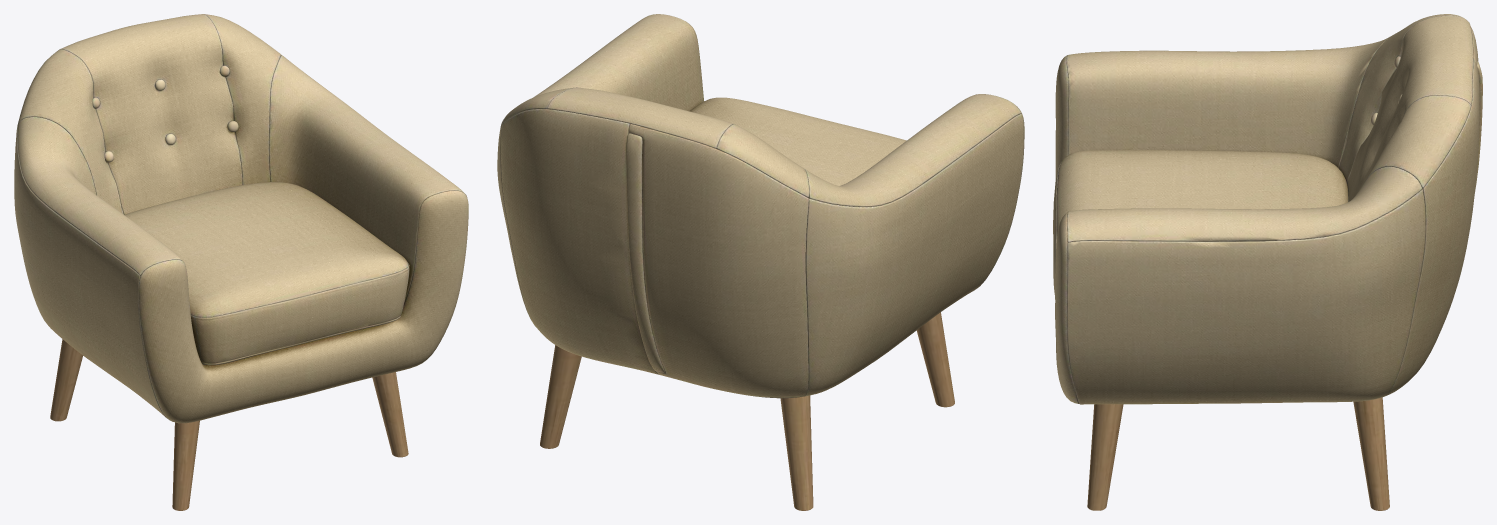
File: ritchie_armchair_barley_beige.glb
3 renders of one model, left to right at view 1: azimuth 30°, elevation 25°; view 2: azimuth 150°, elevation 25°; view 3: azimuth 270°, elevation 25°, orthographic. The views are drawn at different scales.
Visible parts, largest first — view 1: PEARL_GREY, LEGS; view 2: PEARL_GREY, LEGS; view 3: PEARL_GREY, LEGS.
Part boxes in pixels (x1,y1,x2,y2): PEARL_GREY: (14,14,468,423); LEGS: (50,339,408,510); PEARL_GREY: (497,14,1024,398); LEGS: (540,312,954,510); PEARL_GREY: (1053,14,1482,404); LEGS: (1087,397,1389,510).
Size of the model in its own units: 54.97 by 54.12 by 53.45.
Materials: 2 (2 with a texture image).
